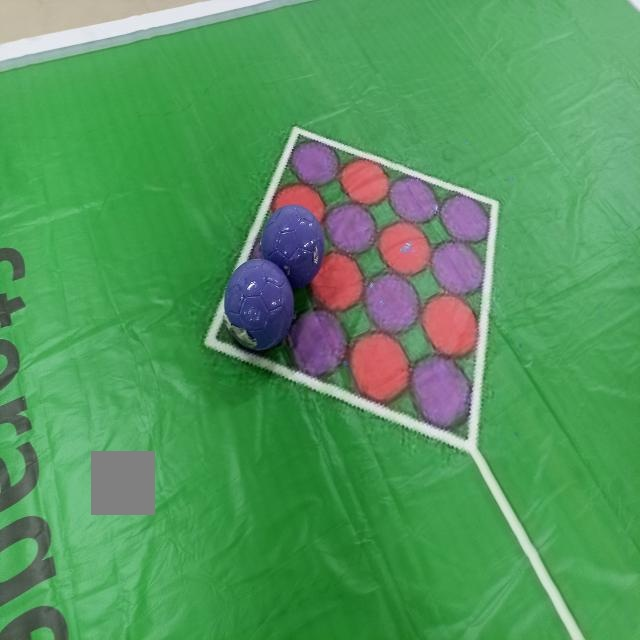purple_ball: (221, 257, 295, 351), (256, 201, 325, 299)
